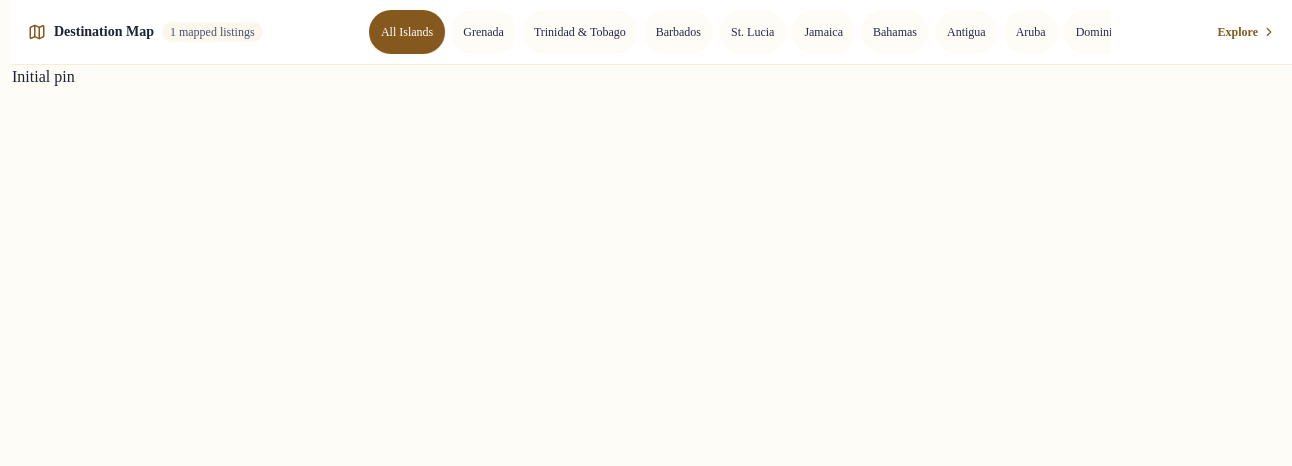
Test: shows an honest HTTP failure and retries the selected island without claiming zero listings
Click the button "Barbados" at (678, 32), box [644,10,713,54]
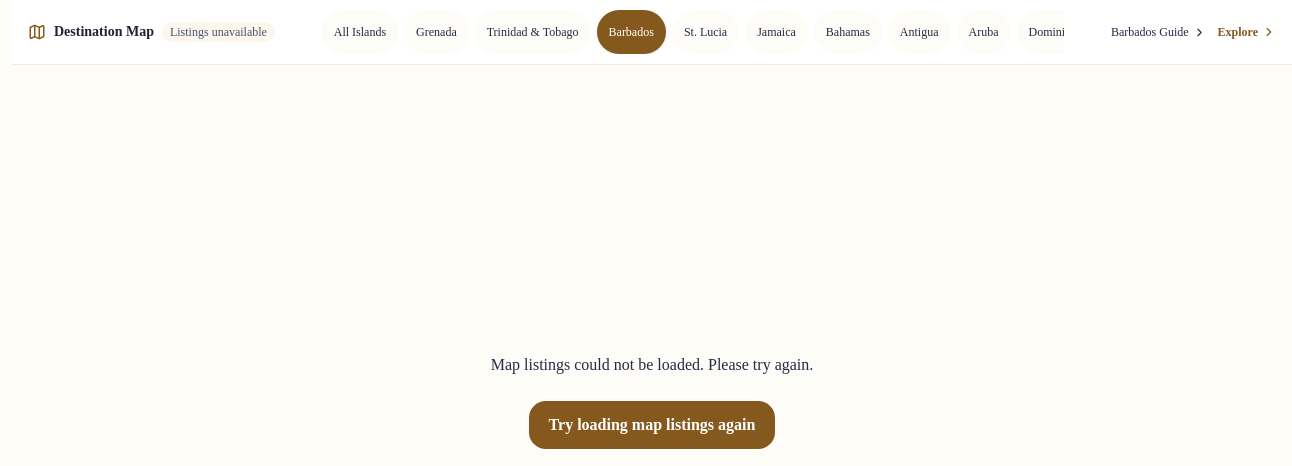
Check: the message shows "could not be loaded", box [491,356,813,372]
Check: the button "Try loading map listings again" is shown
Click the button "Try loading map listings again" at (652, 424), box [529,400,776,448]
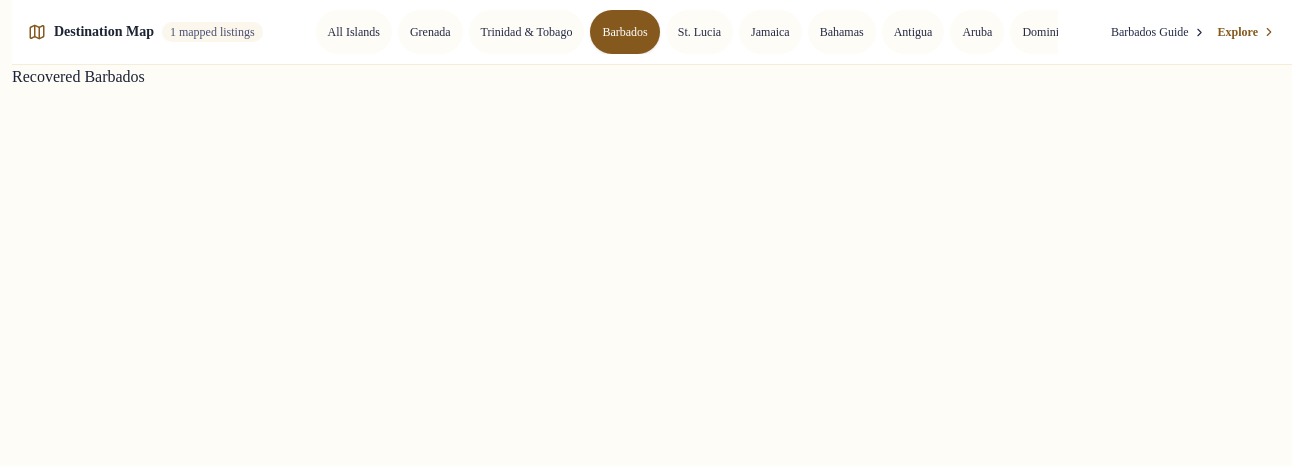
Check: the text "Recovered Barbados" is shown, box [12,68,145,85]
